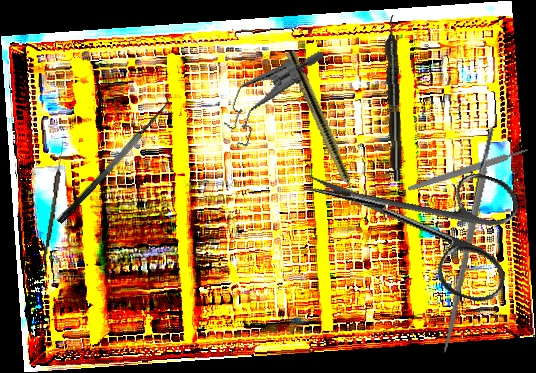Handpiece: (283, 49, 365, 212), (384, 14, 404, 182)
Iris Scissors: (285, 125, 533, 308)
Scalpel Handle: (440, 124, 499, 354), (407, 146, 529, 193)
Spatula Surgical: (46, 91, 177, 225)
Speculum: (216, 28, 326, 167)
Surgical Spoon: (42, 140, 66, 262)
